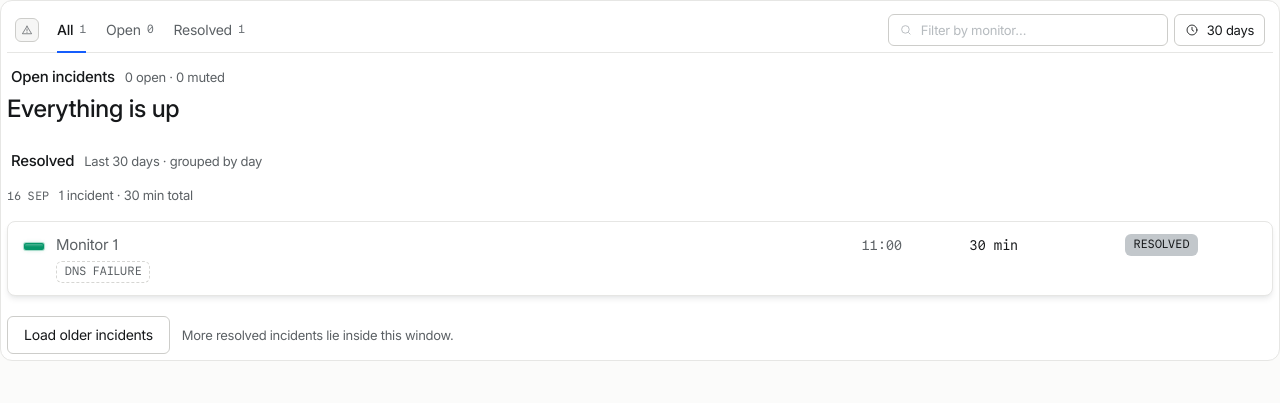
Test: the history is paged through the API's own cursor › asks for the next page with the cursor it was given, and keeps the first
Click the button "Load older incidents" at (88, 335), box [7,316,170,354]
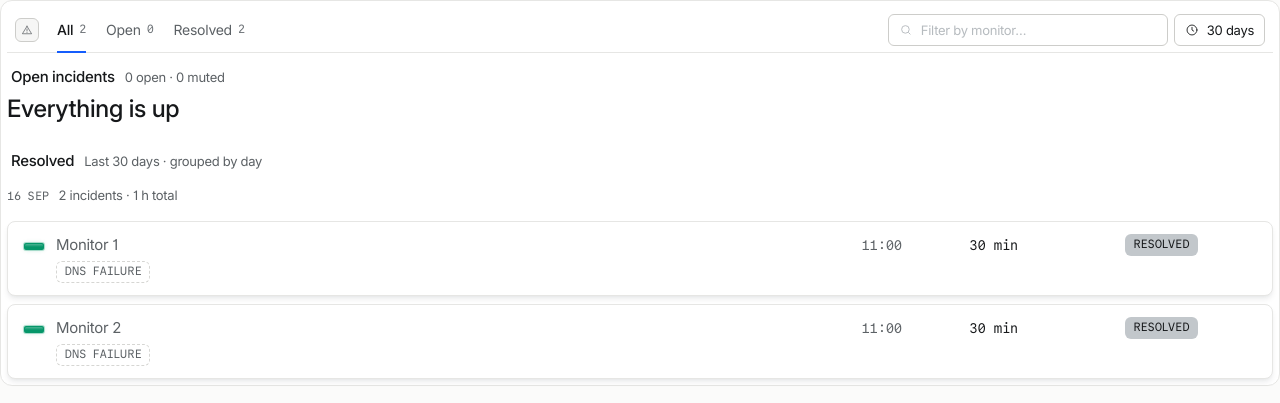
Expected: the number of list items is 2, [7,221,1273,296]; [7,304,1273,379]
Now the button "Load older" is gone
